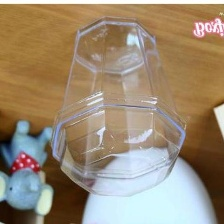glass: (44, 13, 196, 203)
